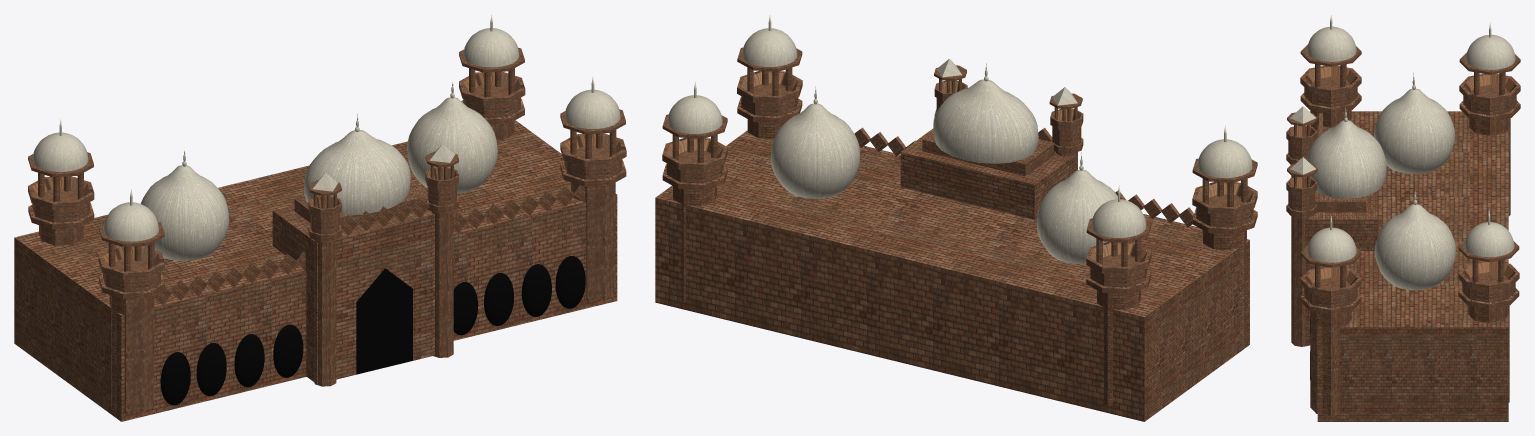
File: Badshahi_Mosque.obj
3 renders of one model, left to right at view 1: azimuth 30°, elevation 25°; view 2: azimuth 150°, elevation 25°; view 3: azimuth 270°, elevation 25°, orthographic. The views are drawn at different scales.
Parts seen in each view (by area): view 1: pSphere22; view 2: pSphere22; view 3: pSphere22.
Part boxes in pixels (<box>): pSphere22: <box>14,15,626,421</box>; pSphere22: <box>655,15,1257,421</box>; pSphere22: <box>1286,15,1520,421</box>.
Size of the model in its own units: 4083 by 1774 by 1783.
Materials: 3 (2 with a texture image).
